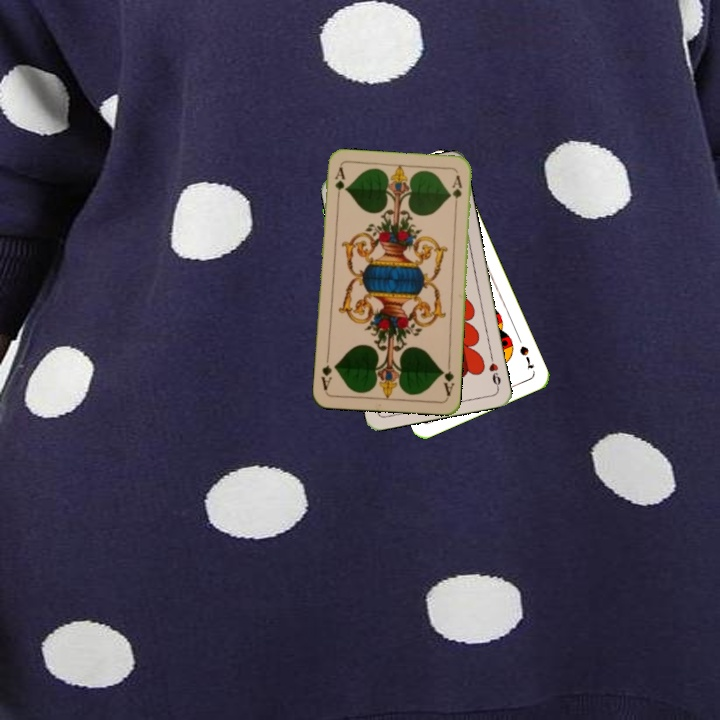GA: (437, 358, 457, 399), (331, 163, 347, 204)
H9: (485, 350, 503, 391)
S7: (516, 341, 537, 372)
